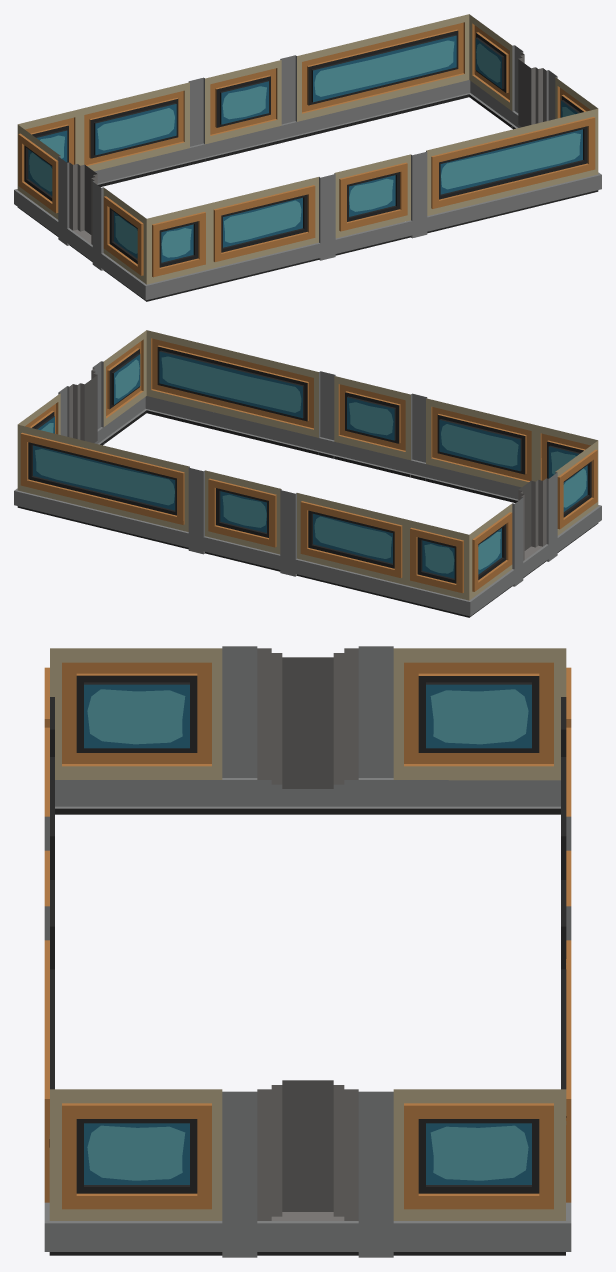
The model's file is Building_D_02_02.FBX.
3 renders of one model, top to bottom at view 1: azimuth 30°, elevation 25°; view 2: azimuth 150°, elevation 25°; view 3: azimuth 270°, elevation 25°, orthographic. The views are drawn at different scales.
Visible parts, largest first — view 1: Building_D_02_02; view 2: Building_D_02_02; view 3: Building_D_02_02.
Boxes of the visible parts, x1=… form: Building_D_02_02: x1=14, y1=14, x2=601, y2=301; Building_D_02_02: x1=14, y1=330, x2=601, y2=617; Building_D_02_02: x1=44, y1=646, x2=571, y2=1257.
Bounding box in the file's own units: 10 × 1.74 × 5.
